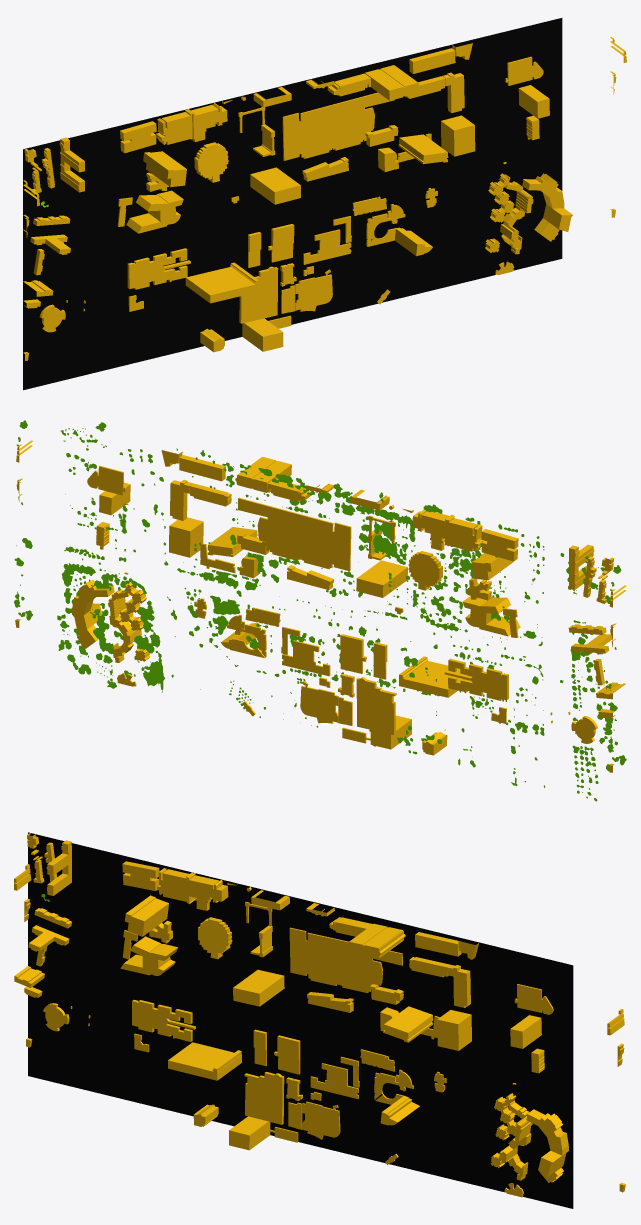
Rendered from existing_buildings_02.glb.
The picture shows the model from 3 angles, top to bottom: view 1: azimuth 30°, elevation 25°; view 2: azimuth 150°, elevation 25°; view 3: azimuth 330°, elevation 25°; orthographic projection.
Parts seen in each view (by area): view 1: Layer 04, existing_building - Copy, existing_building; view 2: existing_building - Copy, treesurface, existing_building; view 3: Layer 04, existing_building - Copy, existing_building.
Part boxes in pixels (left/top/right/bottom): Layer 04: left=23, top=18, right=562, bottom=390; existing_building - Copy: left=23, top=37, right=616, bottom=332; existing_building: left=23, top=41, right=626, bottom=360; existing_building - Copy: left=16, top=444, right=616, bottom=743; treesurface: left=14, top=420, right=626, bottom=801; existing_building: left=15, top=440, right=626, bottom=772; Layer 04: left=28, top=832, right=573, bottom=1208; existing_building - Copy: left=24, top=833, right=624, bottom=1197; existing_building: left=14, top=849, right=625, bottom=1192.
Bounding box in the file's own units: 1114 × 458 × 78.19.
